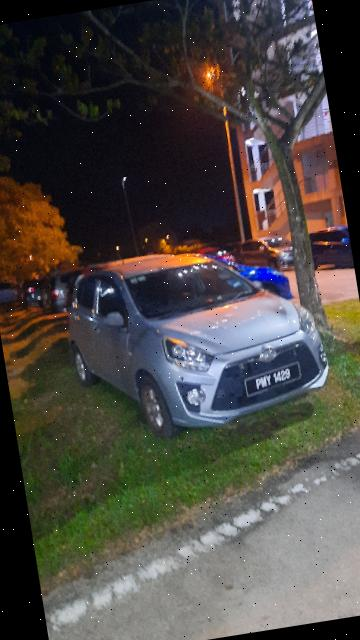License_Plate: (239, 358, 305, 396)
car: (59, 230, 339, 448)
